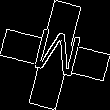M_S: (26, 25, 84, 85)
